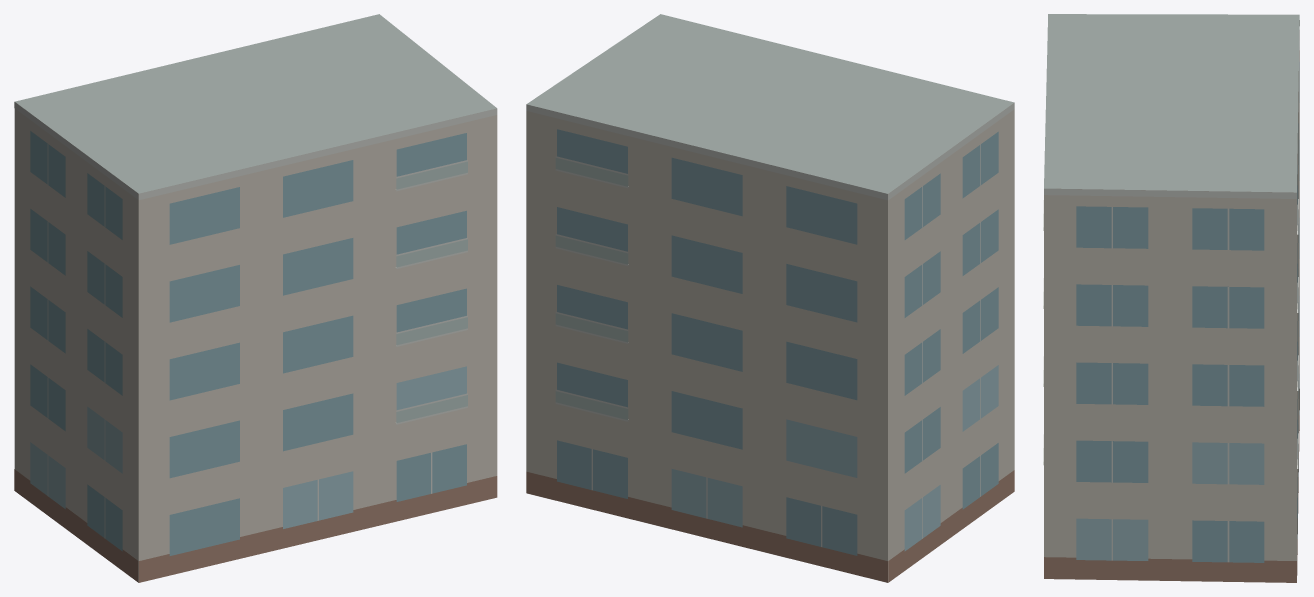
File: survey-upis-32836120.glb
3 renders of one model, left to right at view 1: azimuth 30°, elevation 25°; view 2: azimuth 150°, elevation 25°; view 3: azimuth 270°, elevation 25°, orthographic.
Parts seen in each view (by area): view 1: survey-upis-32836120.tmp; view 2: survey-upis-32836120.tmp; view 3: survey-upis-32836120.tmp.
Part boxes in pixels (x1=…): survey-upis-32836120.tmp: x1=14, y1=14, x2=497, y2=582; survey-upis-32836120.tmp: x1=526, y1=14, x2=1014, y2=582; survey-upis-32836120.tmp: x1=1043, y1=14, x2=1299, y2=582.
Bounding box in the file's own units: 14.23 × 14.5 × 8.65.
